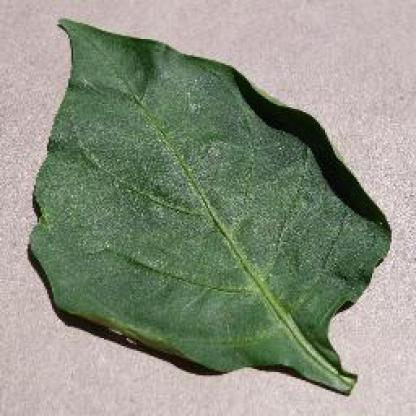good leaf: (55, 16, 374, 290)
